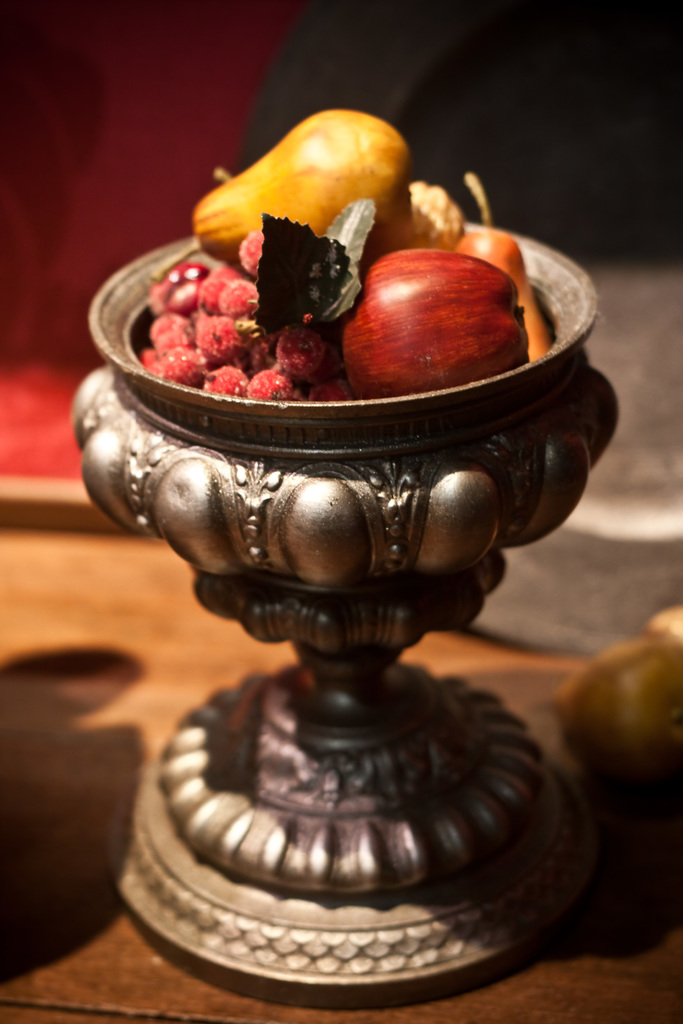Apple: (313, 248, 526, 388)
